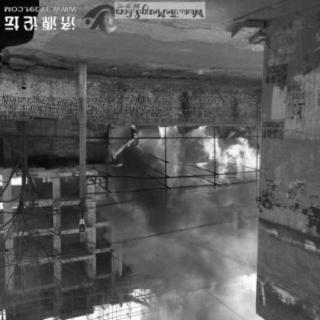Fire: (127, 124, 261, 188)
